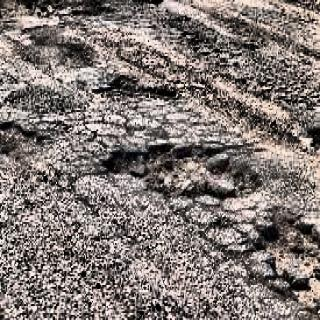pothole: (86, 117, 265, 205), (243, 209, 320, 305), (12, 0, 116, 28), (0, 110, 45, 160), (147, 82, 184, 102)
